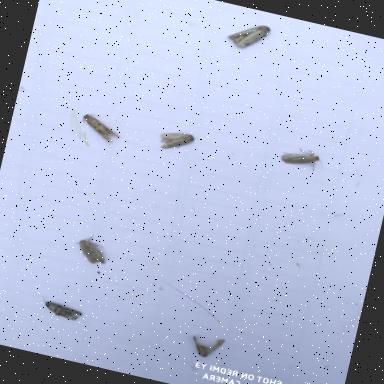pbw: (223, 14, 273, 56), (68, 229, 117, 269), (75, 111, 126, 147), (278, 142, 332, 176), (184, 325, 231, 364), (34, 292, 88, 325), (154, 125, 196, 157)
